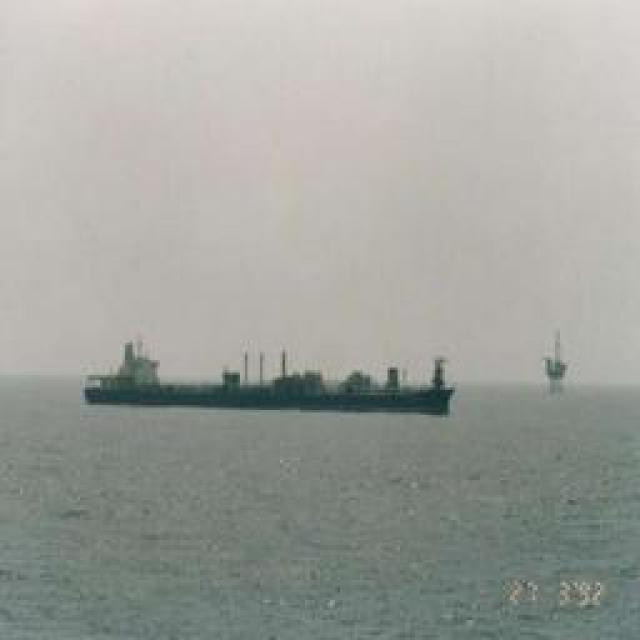Ship: (83, 341, 468, 416)
